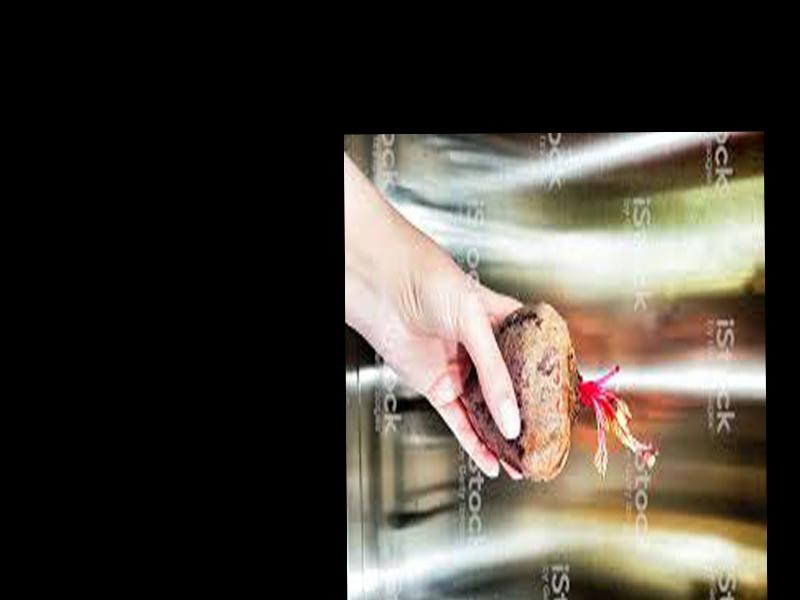Beet: (462, 304, 653, 482)
